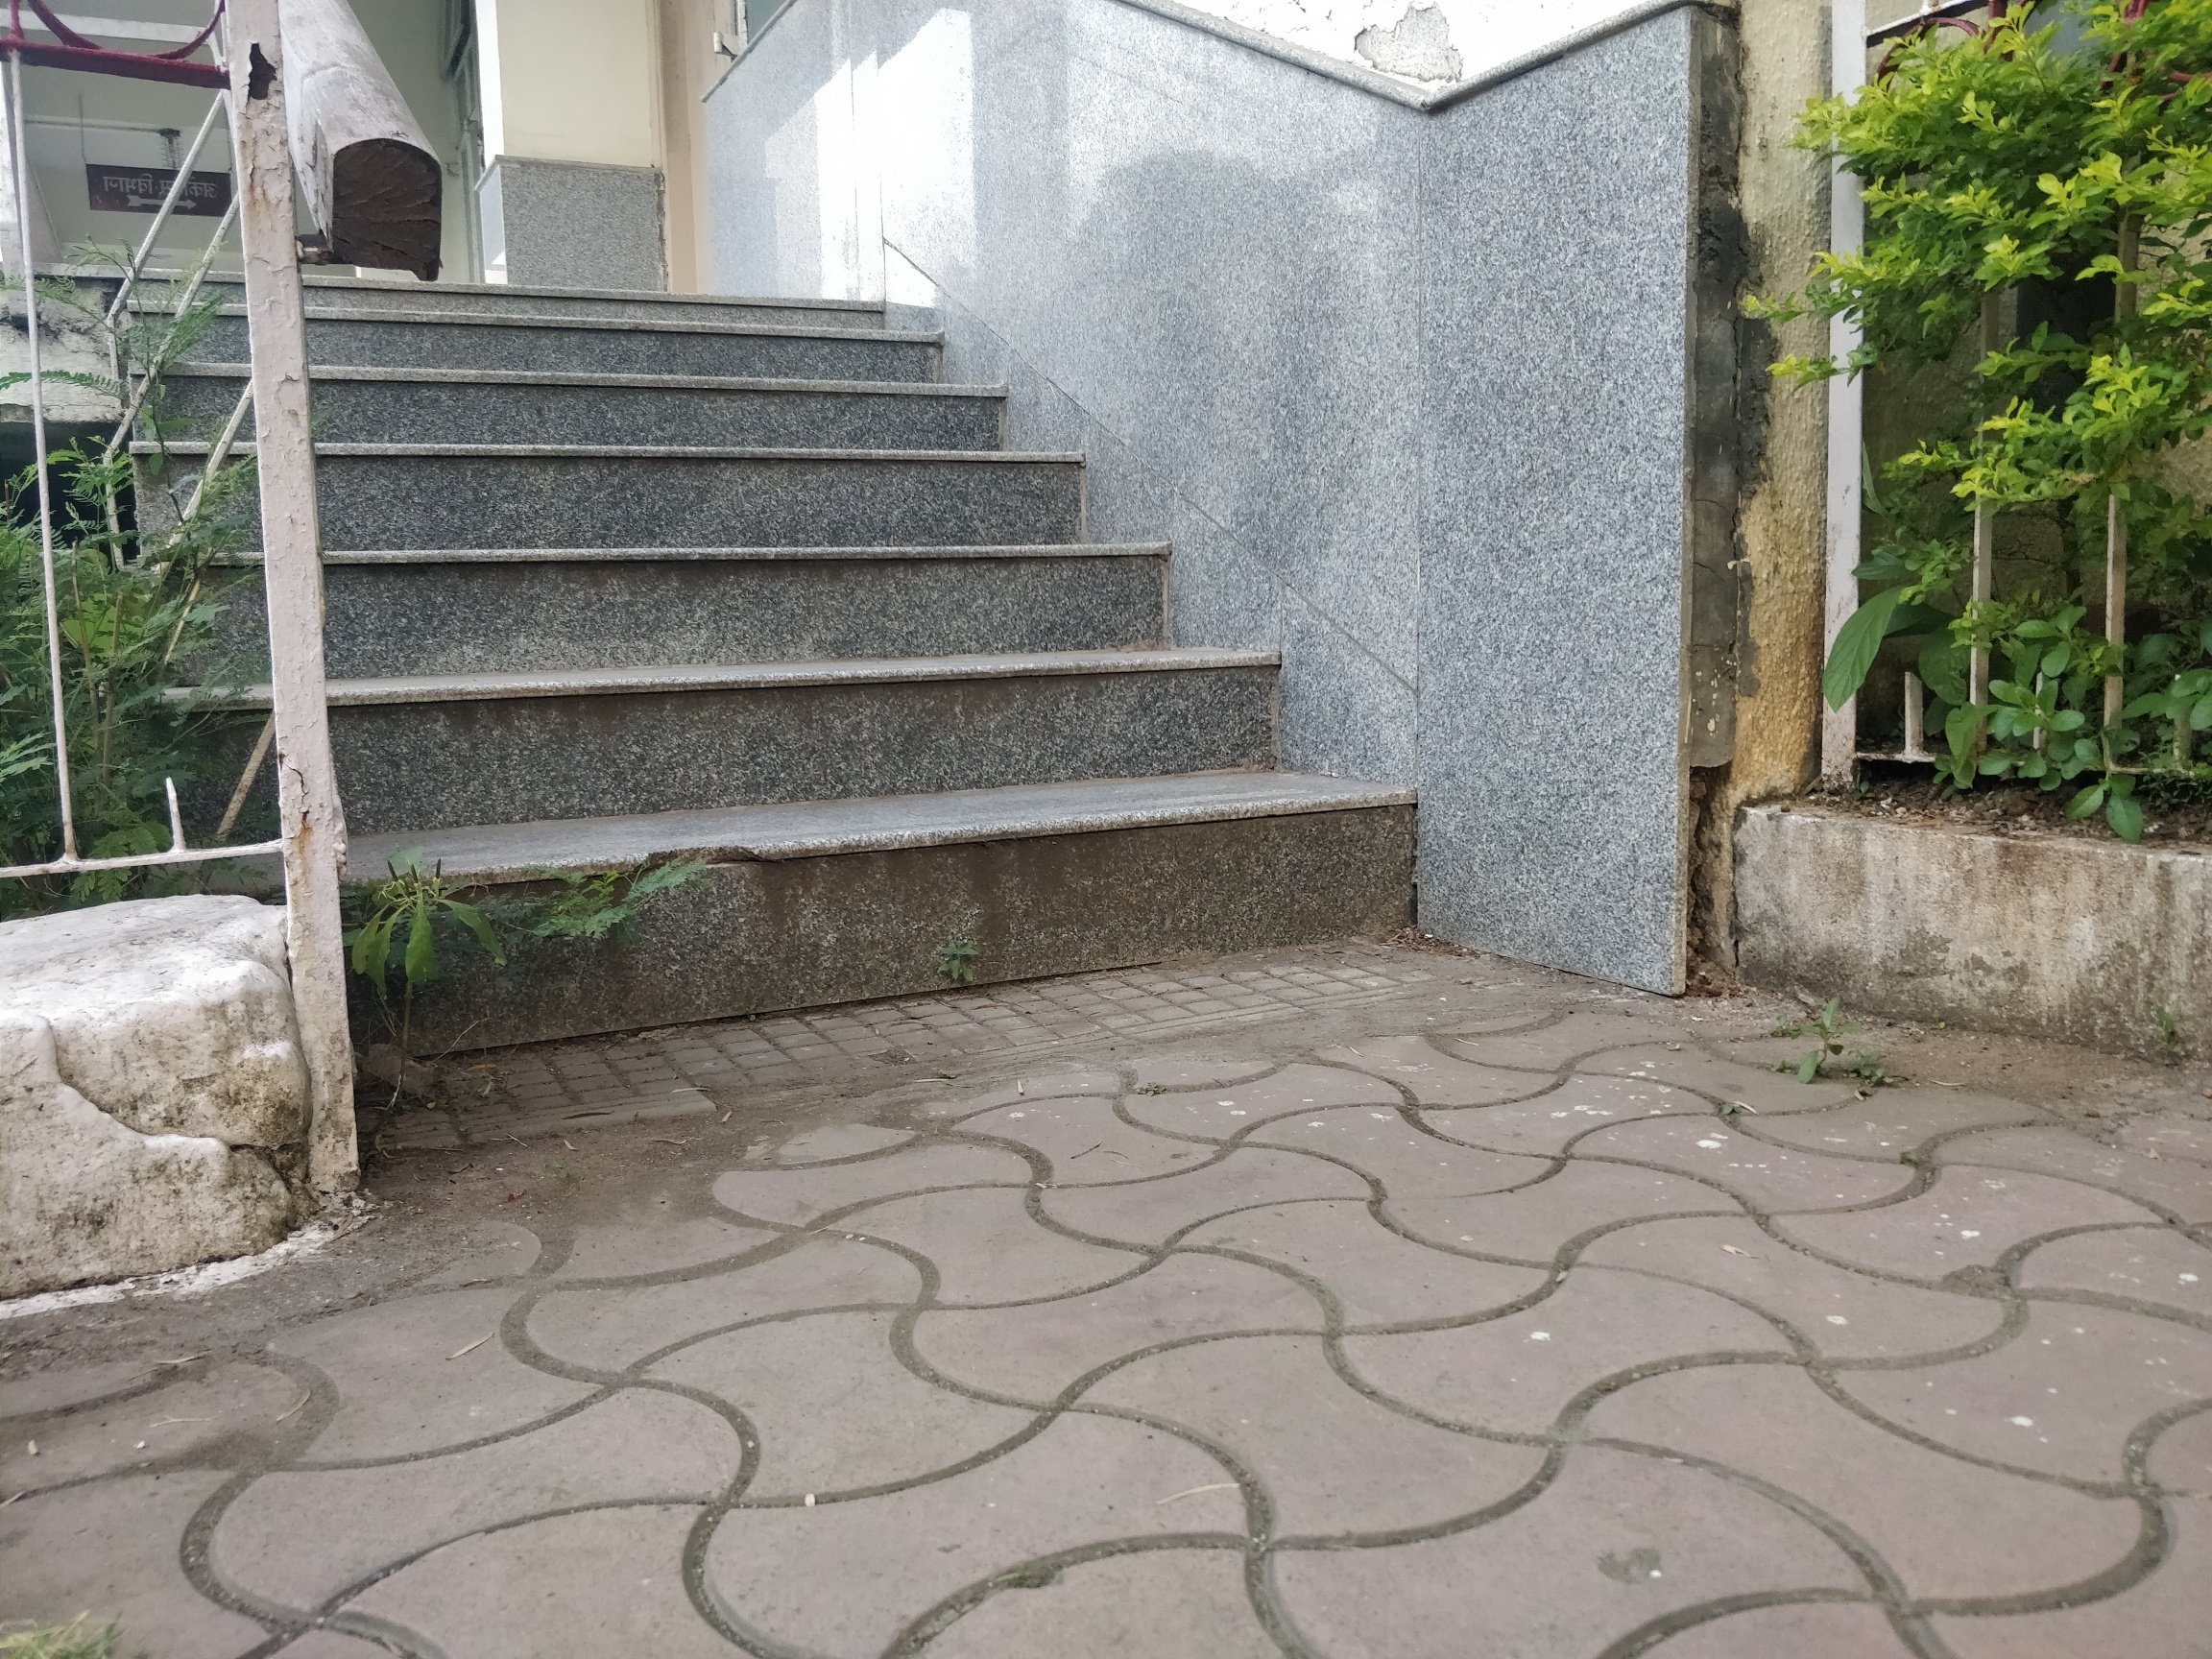stairs_up: (131, 260, 1414, 1025)
